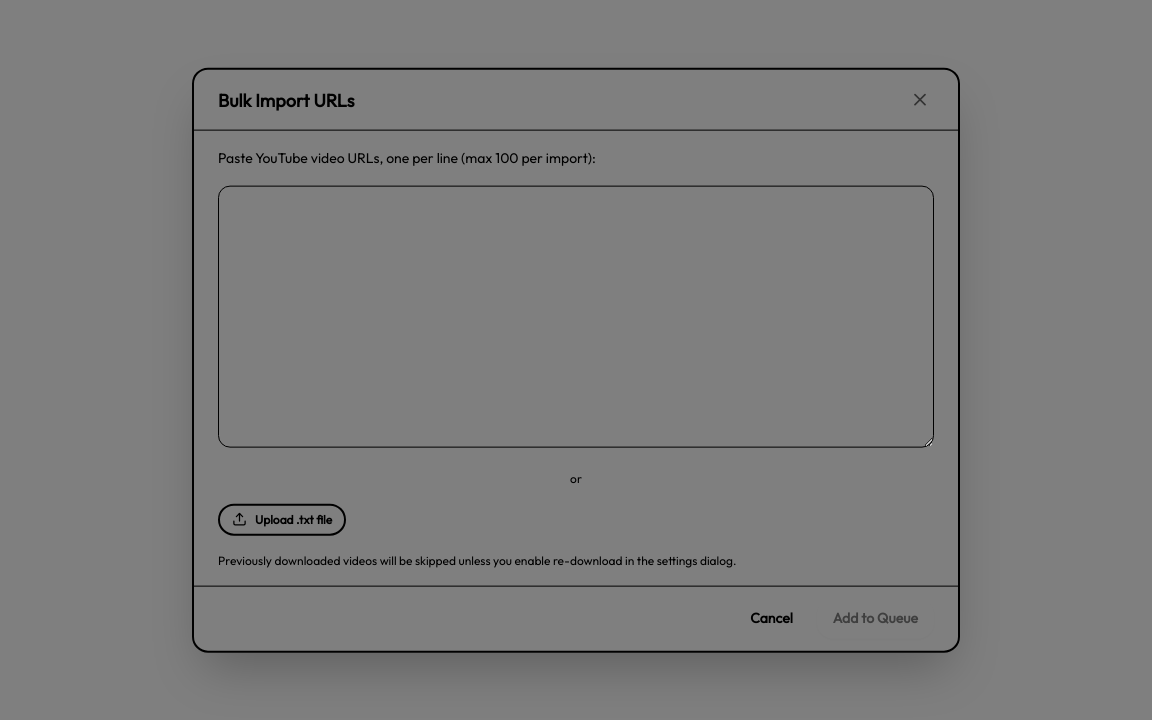
Test: BulkImportDialog › URL Parsing › shows playlist URL message
Replace the text in the text box with test id "bulk-import-textarea" with "https://www.youtube.com/playlist?list=PLrAXtmErZgOeiKm4sgNOknGvNjby9efdf": point(576, 316) [218,185,934,447]
Wait 300 ms
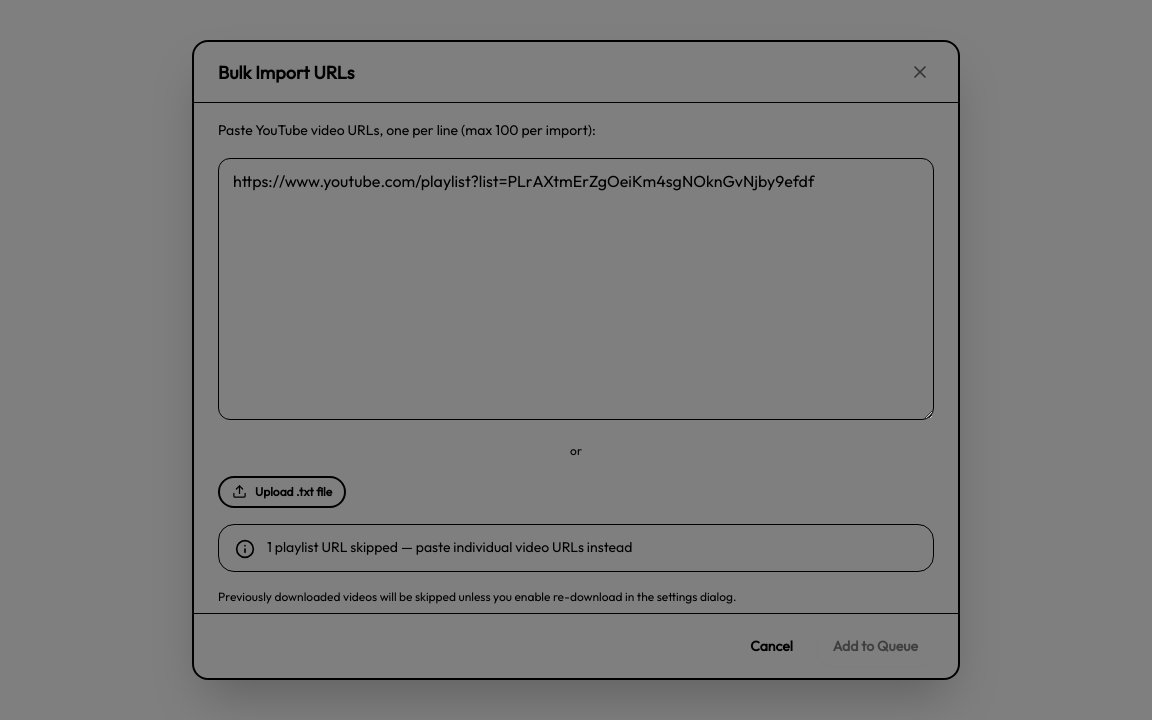
Check: the text "1 playlist URL skipped — paste individual video URLs instead" is shown, box [267,538,632,556]
